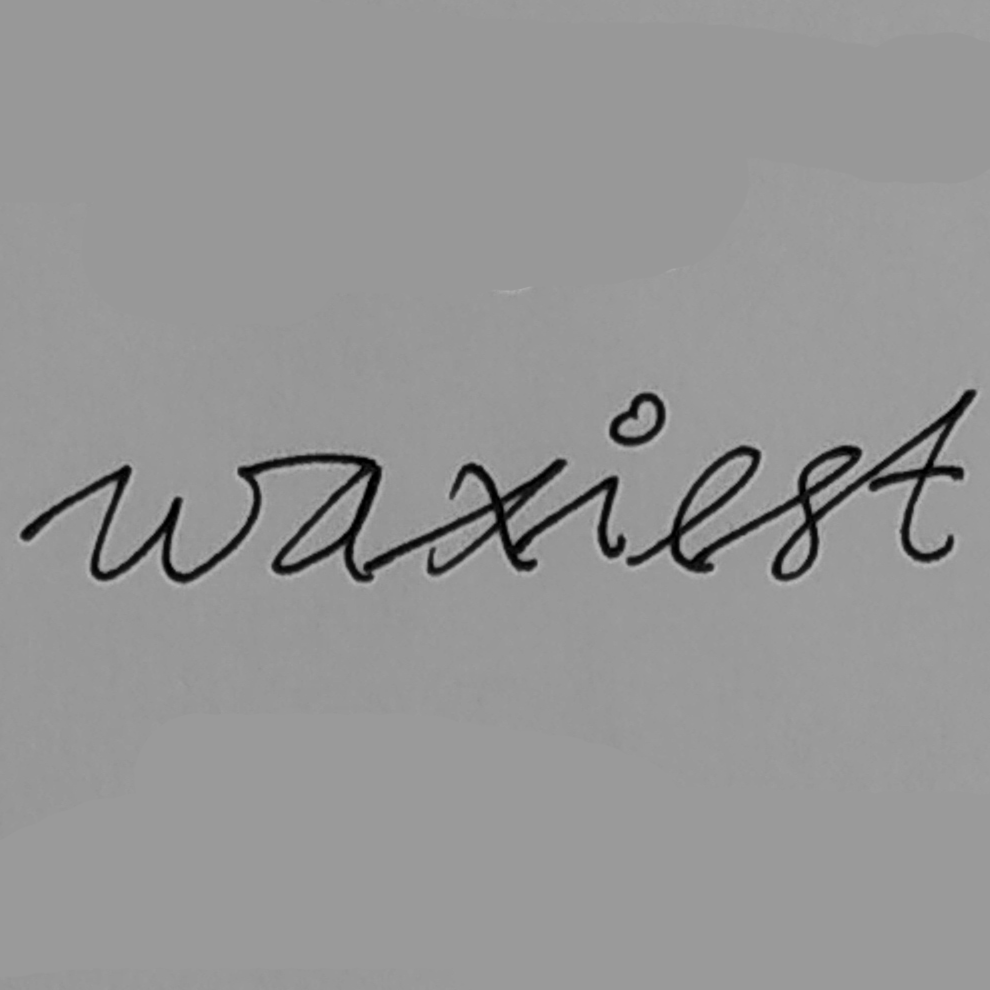a: (268, 457, 387, 588)
e: (667, 439, 762, 578)
i: (586, 389, 666, 565)
s: (769, 443, 863, 583)
t: (866, 385, 979, 565)
w: (85, 456, 262, 586)
x: (424, 454, 568, 579)
